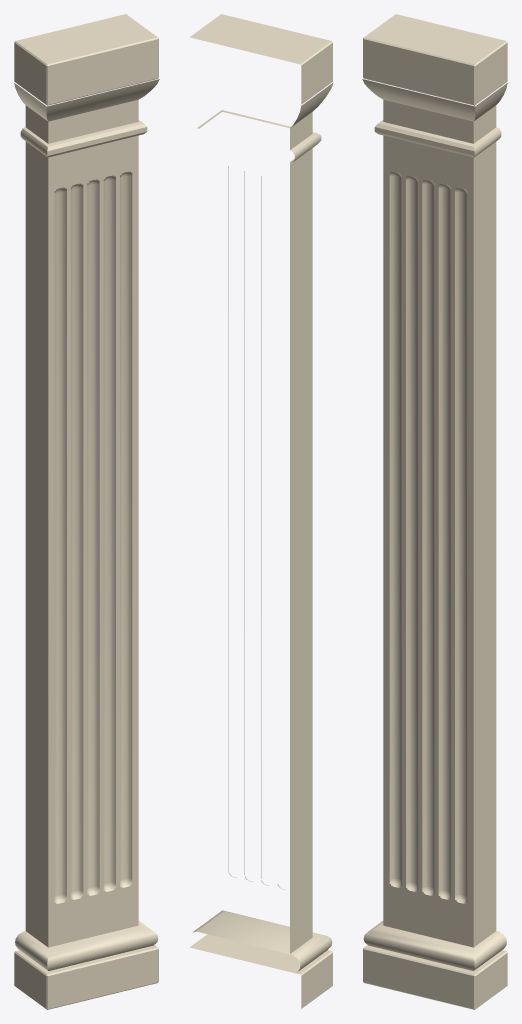
File: pilaster_fluted.glb
3 renders of one model, left to right at view 1: azimuth 30°, elevation 25°; view 2: azimuth 150°, elevation 25°; view 3: azimuth 330°, elevation 25°, orthographic.
Parts seen in each view (by area): view 1: pilaster_fluted; view 2: pilaster_fluted; view 3: pilaster_fluted.
Boxes of the visible parts, bbox=[...] form: pilaster_fluted: bbox=[14, 14, 159, 1009]; pilaster_fluted: bbox=[189, 14, 333, 1008]; pilaster_fluted: bbox=[362, 14, 507, 1009].
Bounding box in the file's own units: 0.4 × 3.2 × 0.2.
